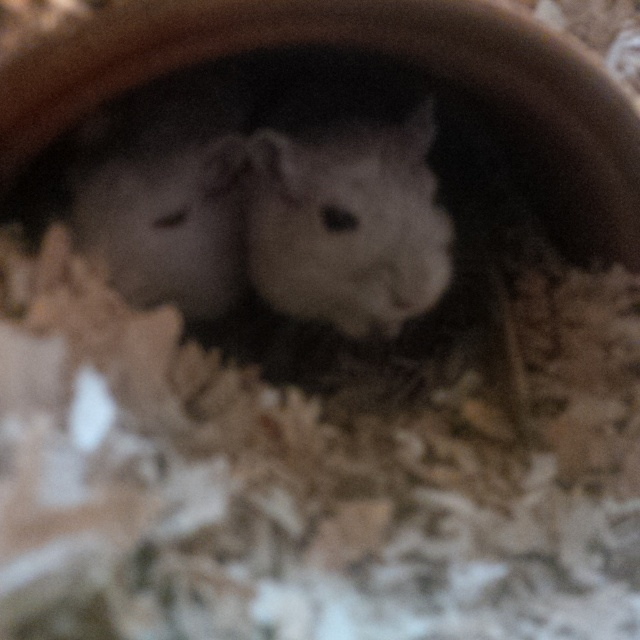Hamster: (247, 94, 455, 343), (64, 122, 248, 322)
